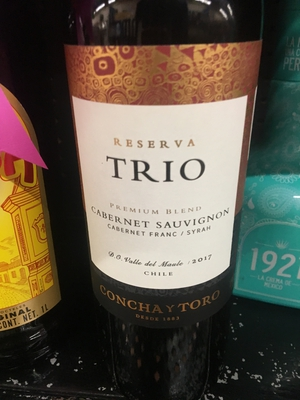trio cabernet sauvignon: (60, 2, 267, 341)
